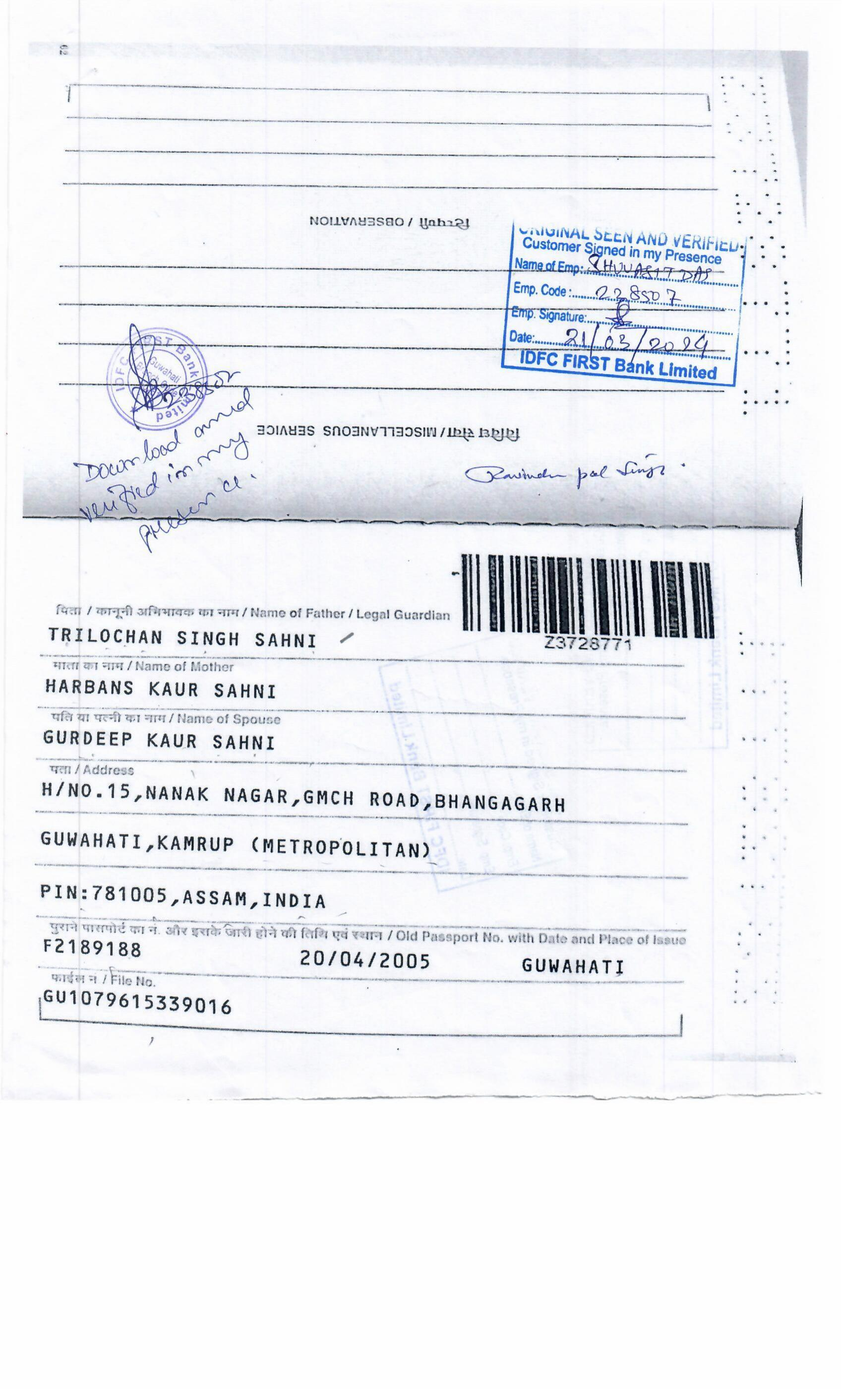File_no: (34, 982, 247, 1030)
address: (30, 762, 588, 921)
father_name: (32, 618, 333, 657)
mother_name: (40, 670, 289, 710)
old_passport_details: (24, 930, 658, 994)
passport_no: (538, 628, 643, 667)
spouse_name: (37, 722, 284, 754)
